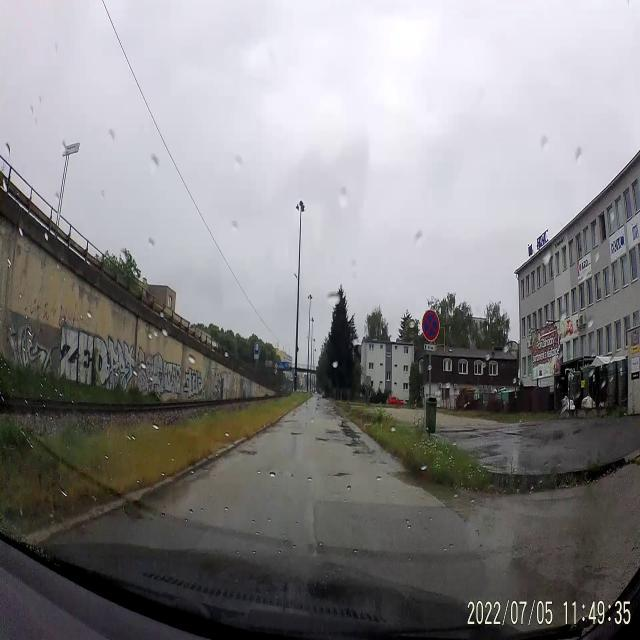Manhole: (232, 444, 257, 458)
Pothole: (328, 467, 354, 487), (313, 431, 337, 448), (288, 430, 306, 438)
